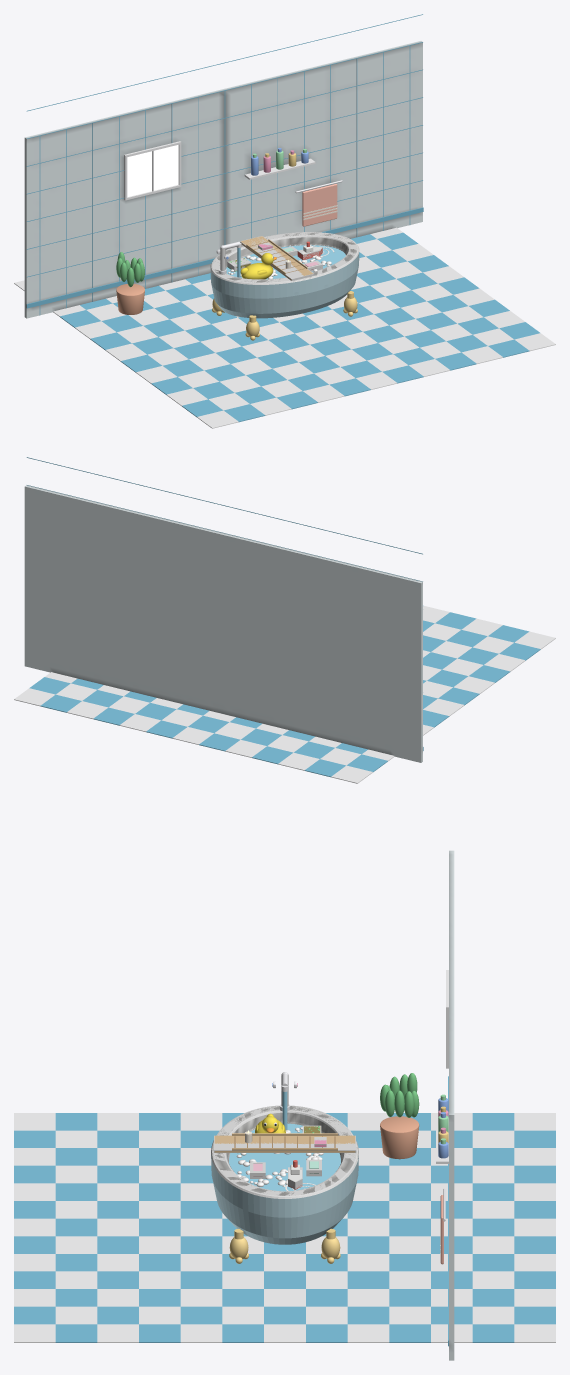
The model's file is bath.glb.
The picture shows the model from 3 angles, top to bottom: view 1: azimuth 30°, elevation 25°; view 2: azimuth 150°, elevation 25°; view 3: azimuth 270°, elevation 25°; orthographic projection. The views are drawn at different scales.
Parts seen in each view (by area): view 1: wall_back, tub_out, window, col_mesh_rim, trim, towel, pot, bowl, water, col_box_caddy, caddy, rim (+4 smaller); view 2: wall_back, grout_h.007, floor_tile, floor_tile.026, floor_tile.065, floor_tile.091, floor_tile.104, floor_tile.130, floor_tile.143, floor_tile.052, floor_tile.117, floor_tile.156 (+33 smaller); view 3: tub_out, wall_back, col_mesh_rim, water, pot, caddy, rim, col_box_caddy, bowl, floor_tile.157, floor_tile.160, floor_tile.164 (+118 smaller).
Boxes of the visible parts, <box> form: wall_back: <box>24,41,422,318</box>; tub_out: <box>210,250,359,318</box>; window: <box>127,145,178,197</box>; col_mesh_rim: <box>210,232,359,284</box>; trim: <box>26,207,423,308</box>; towel: <box>302,184,337,226</box>; pot: <box>116,284,144,314</box>; bowl: <box>225,237,347,268</box>; water: <box>226,245,345,279</box>; col_box_caddy: <box>240,236,314,280</box>; caddy: <box>240,236,313,280</box>; rim: <box>213,232,356,282</box>; wall_back: <box>24,485,422,762</box>; grout_h.007: <box>26,457,422,554</box>; floor_tile: <box>331,765,372,783</box>; floor_tile.026: <box>278,752,319,770</box>; floor_tile.065: <box>199,733,240,751</box>; floor_tile.091: <box>146,720,187,738</box>; floor_tile.104: <box>119,714,160,731</box>; floor_tile.130: <box>67,701,108,718</box>; floor_tile.143: <box>40,694,81,712</box>; floor_tile.052: <box>225,740,266,757</box>; floor_tile.117: <box>93,707,134,725</box>; floor_tile.156: <box>14,688,55,706</box>; tub_out: <box>211,1155,358,1244</box>; wall_back: <box>449,850,454,1360</box>; col_mesh_rim: <box>211,1105,358,1198</box>; water: <box>229,1123,340,1191</box>; pot: <box>380,1116,419,1159</box>; caddy: <box>214,1135,355,1152</box>; rim: <box>211,1106,358,1195</box>; col_box_caddy: <box>214,1135,355,1152</box>; bowl: <box>226,1112,343,1171</box>; floor_tile.157: <box>472,1324,514,1342</box>; floor_tile.160: <box>347,1324,389,1342</box>; floor_tile.164: <box>180,1324,222,1342</box>.
Bounding box in the file's own units: 60 × 30.04 × 52.
